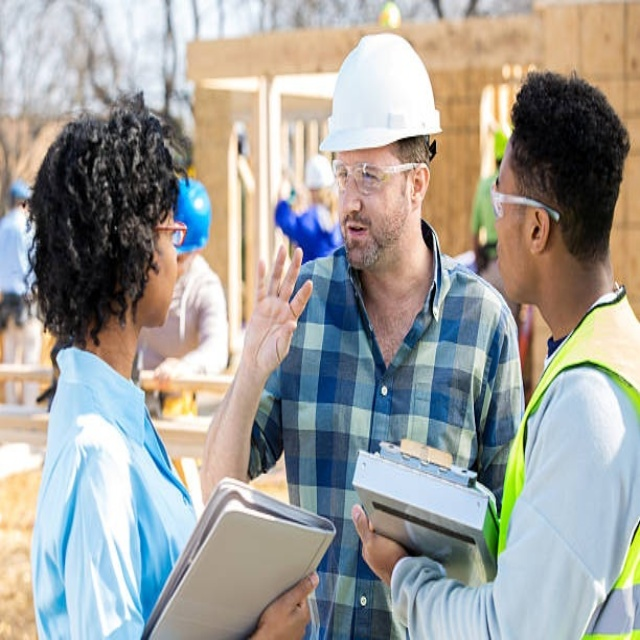Gafas: (490, 176, 559, 224), (330, 158, 424, 191)
Sin_guantes: (242, 239, 313, 380), (351, 502, 412, 587), (248, 571, 320, 640)
Sin_mascara: (492, 229, 523, 290), (340, 215, 378, 264)
